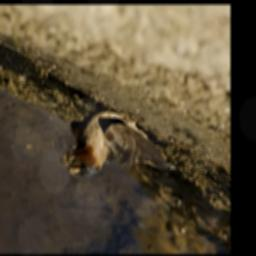Swallow: (62, 106, 171, 178)
